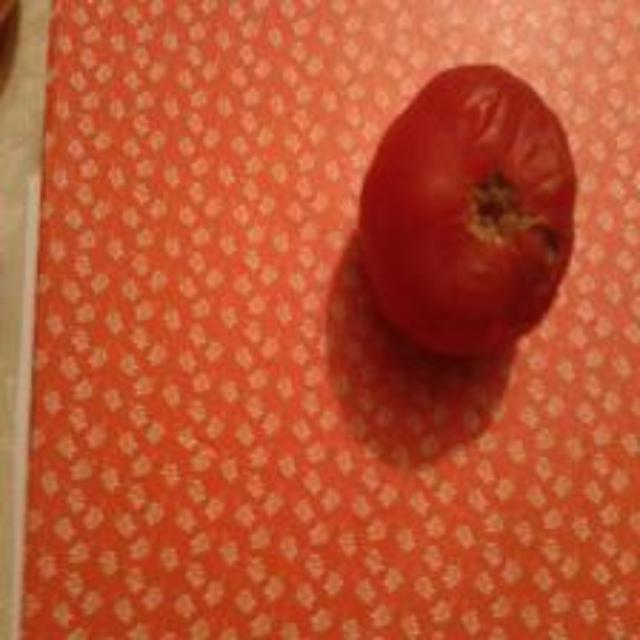defect: (356, 60, 583, 365)
